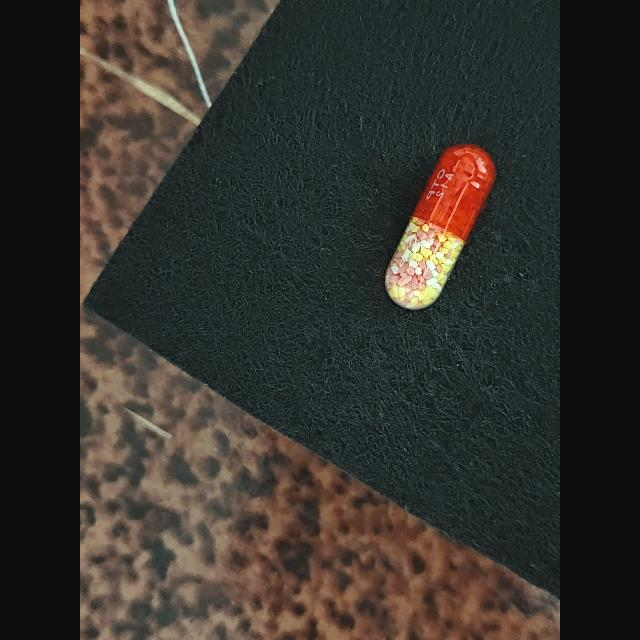Intact Capsule: (385, 144, 496, 310)
